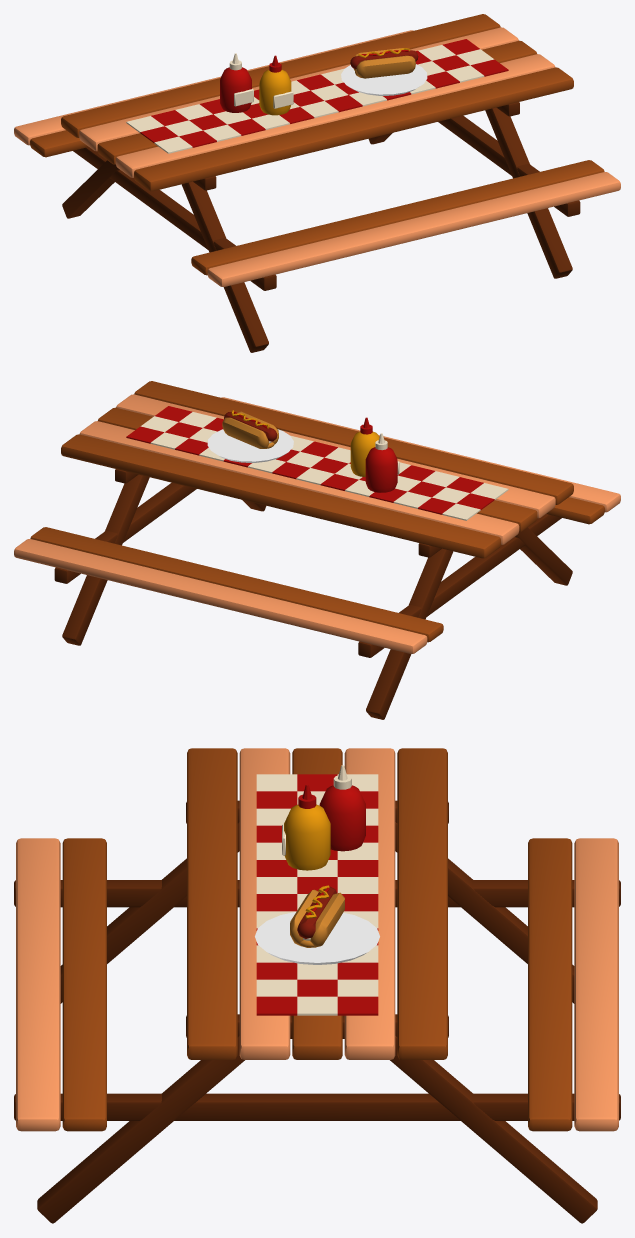
The model's file is PicnicTable.fbx.
3 views of the same model, one above another, from view 1: azimuth 30°, elevation 25°; view 2: azimuth 150°, elevation 25°; view 3: azimuth 270°, elevation 25° (orthographic). The views are drawn at different scales.
Parts seen in each view (by area): view 1: PicnicTable; view 2: PicnicTable; view 3: PicnicTable.
Part boxes in pixels (x1,y1,x2,y2): PicnicTable: [14, 14, 620, 352]; PicnicTable: [14, 381, 620, 719]; PicnicTable: [14, 748, 620, 1223].
Size of the model in its own units: 7 by 3.22 by 6.
